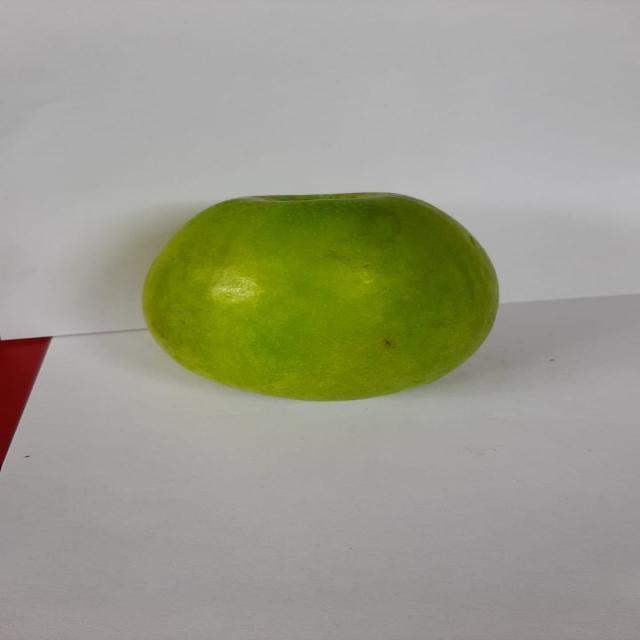50-_ripeness: (122, 182, 511, 411)
